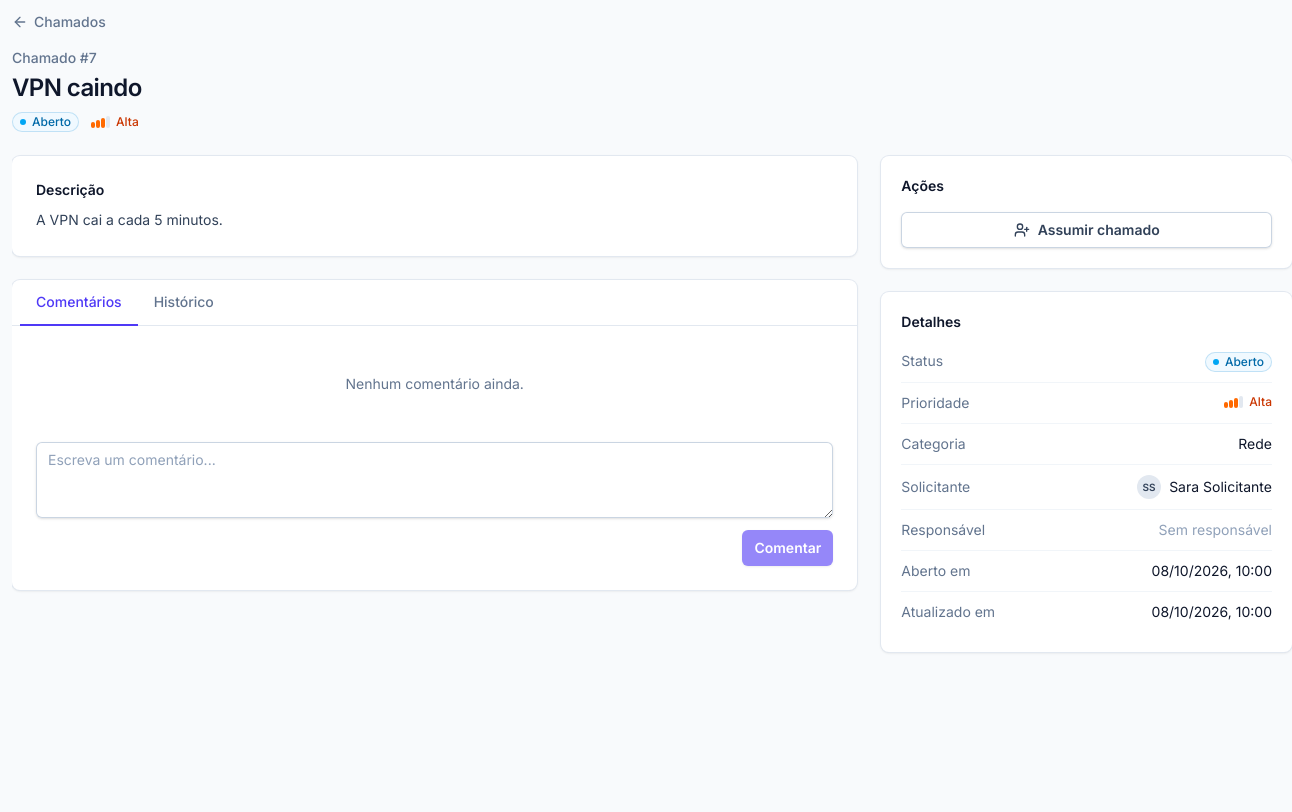
Test: TicketDetailPage › mostra o erro do backend quando a ação é recusada
Click the button "Assumir chamado" at [1087, 230], box [901,212,1272,248]
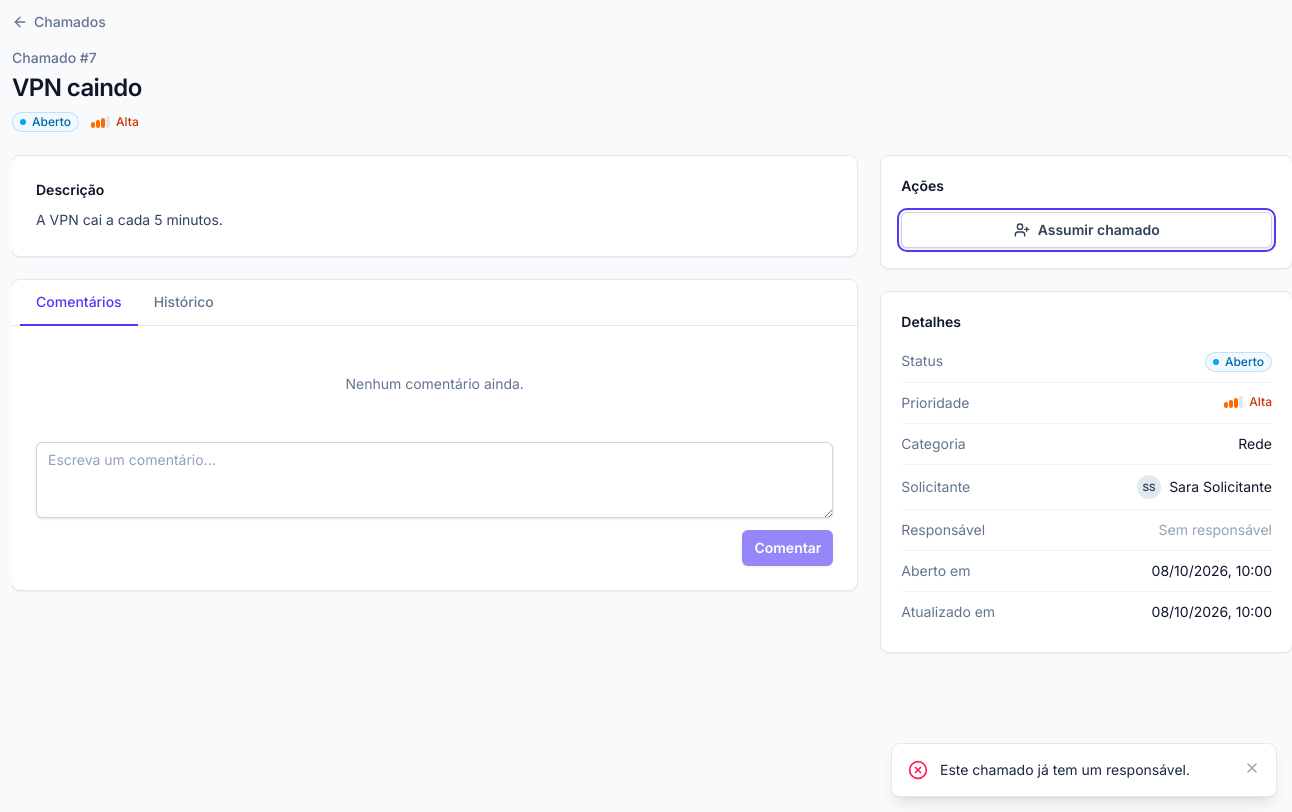
Expected: the text "Este chamado já tem um responsável." is shown, [940,760,1232,780]
